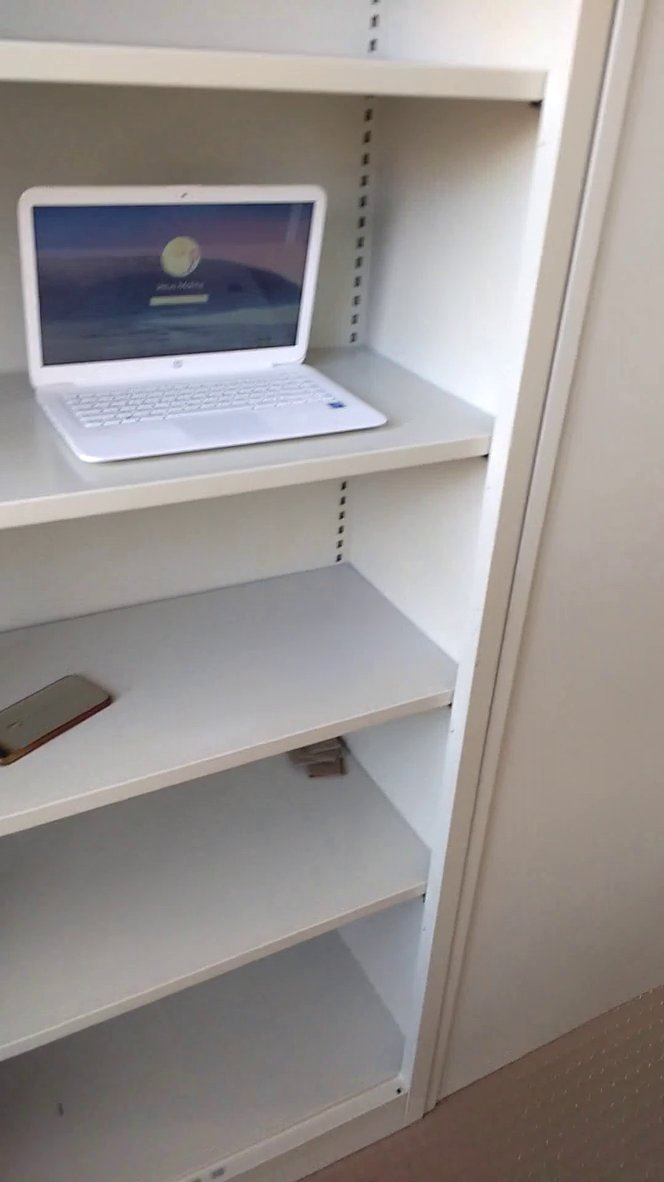laptop: (8, 169, 402, 481)
phone: (1, 663, 121, 775)
